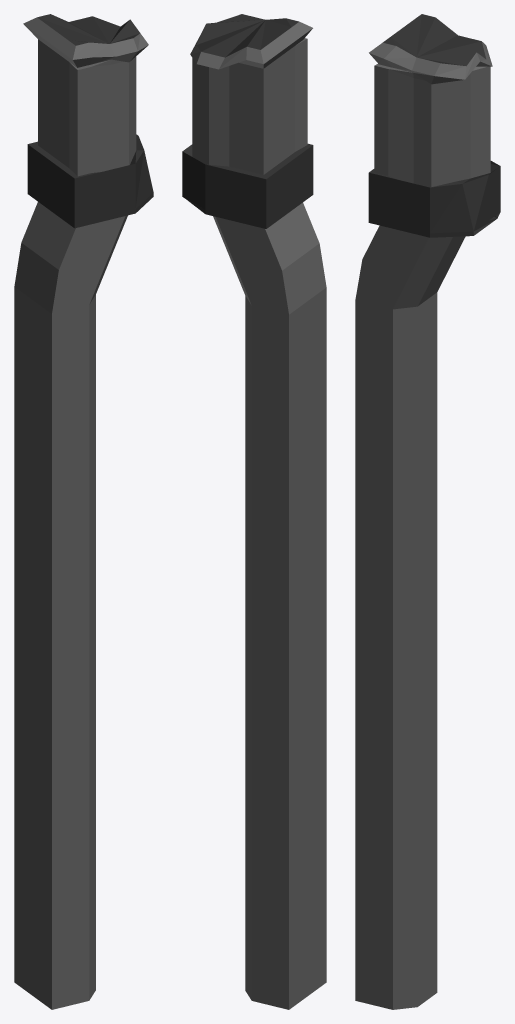
Rendered from SidePillar3.fbx.
3 renders of one model, left to right at view 1: azimuth 30°, elevation 25°; view 2: azimuth 150°, elevation 25°; view 3: azimuth 330°, elevation 25°, orthographic.
Visible parts, largest first — view 1: Cylinder.029; view 2: Cylinder.029; view 3: Cylinder.029.
Boxes of the visible parts, x1,y1,x2,y2 form: Cylinder.029: [14, 14, 153, 1009]; Cylinder.029: [182, 14, 326, 1009]; Cylinder.029: [355, 14, 500, 1009].
Bounding box in the file's own units: 270 × 2247 × 229.
